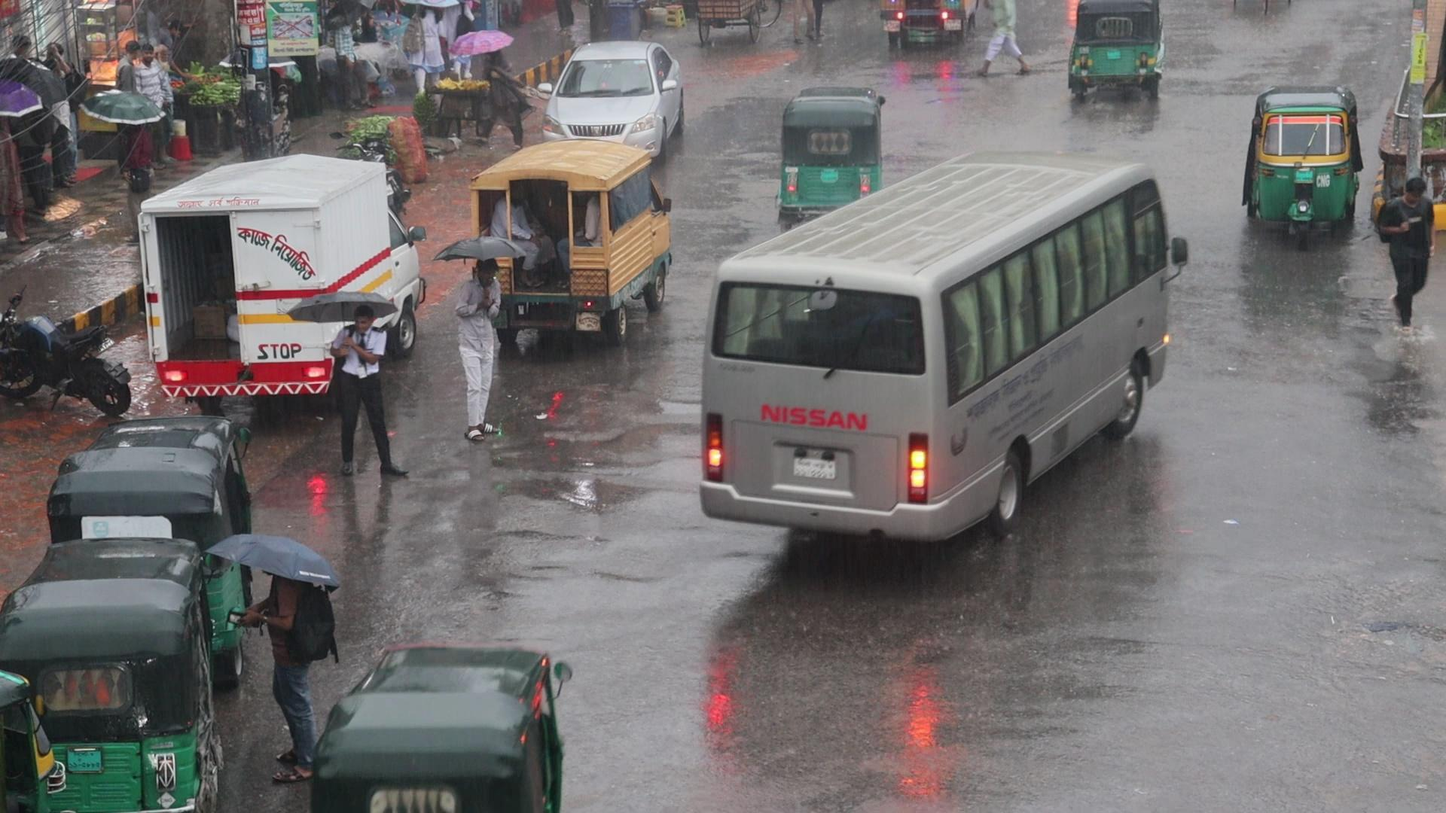Bus: (693, 141, 1191, 553)
Car: (537, 38, 685, 145)
Truck: (468, 140, 672, 347)
